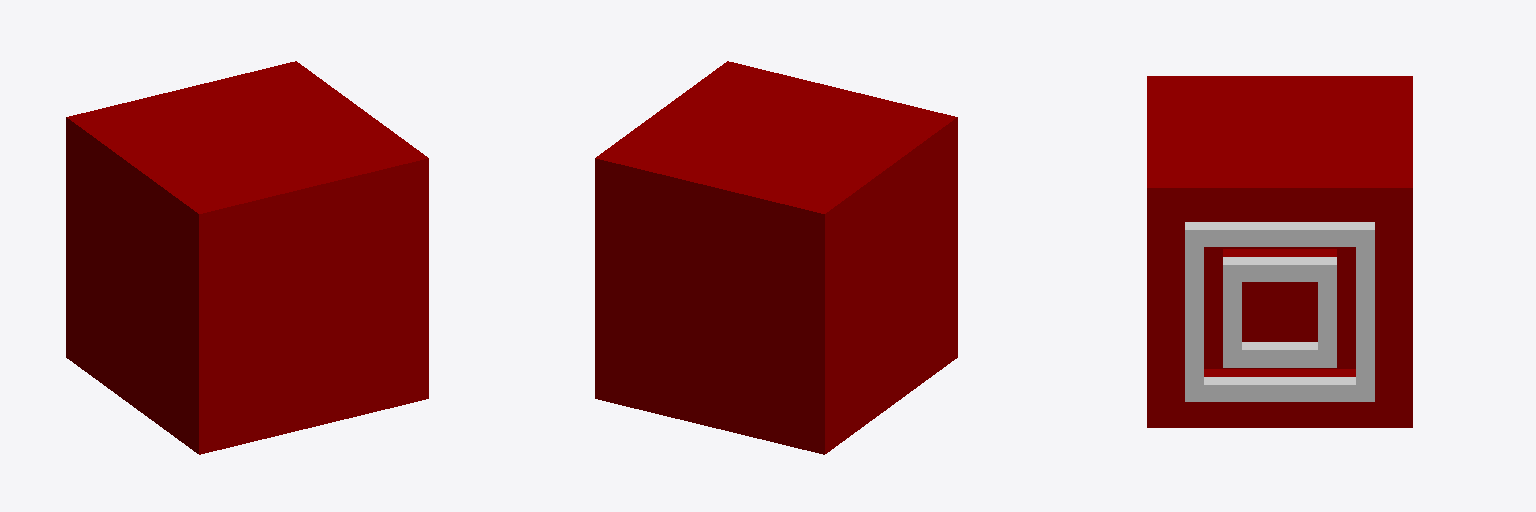
Rendered from BlockMonster2.obj.
3 views of the same model, side by side, from view 1: azimuth 30°, elevation 25°; view 2: azimuth 150°, elevation 25°; view 3: azimuth 270°, elevation 25° (orthographic).
Visible parts, largest first — view 1: BlockMonster2; view 2: BlockMonster2; view 3: BlockMonster2.
Boxes of the visible parts, x1,y1,x2,y2 form: BlockMonster2: [66, 61, 428, 454]; BlockMonster2: [595, 61, 957, 454]; BlockMonster2: [1147, 76, 1412, 427].
Size of the model in its own units: 15 by 14 by 14.